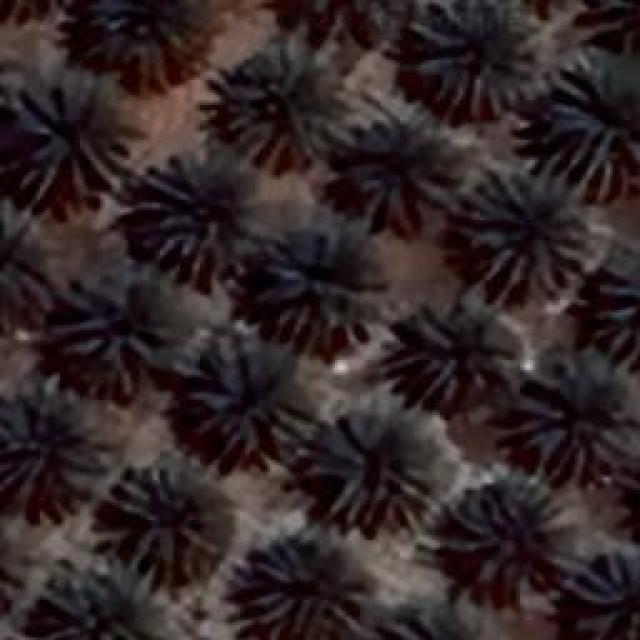PalmTree: (54, 76, 613, 306), (202, 35, 356, 170), (460, 162, 595, 300), (185, 325, 318, 465), (305, 400, 445, 532), (500, 348, 632, 482), (130, 152, 260, 286), (12, 78, 138, 210), (342, 103, 470, 230), (404, 0, 538, 120), (0, 377, 112, 517), (450, 472, 572, 598), (103, 454, 220, 582), (235, 530, 370, 638), (390, 290, 520, 402), (542, 55, 640, 200), (255, 222, 370, 338), (84, 0, 218, 98), (52, 260, 168, 360), (35, 560, 170, 638), (0, 199, 49, 325), (574, 547, 638, 635), (374, 601, 490, 640), (0, 512, 25, 614), (591, 0, 640, 51), (0, 0, 75, 25), (1, 0, 73, 20)
